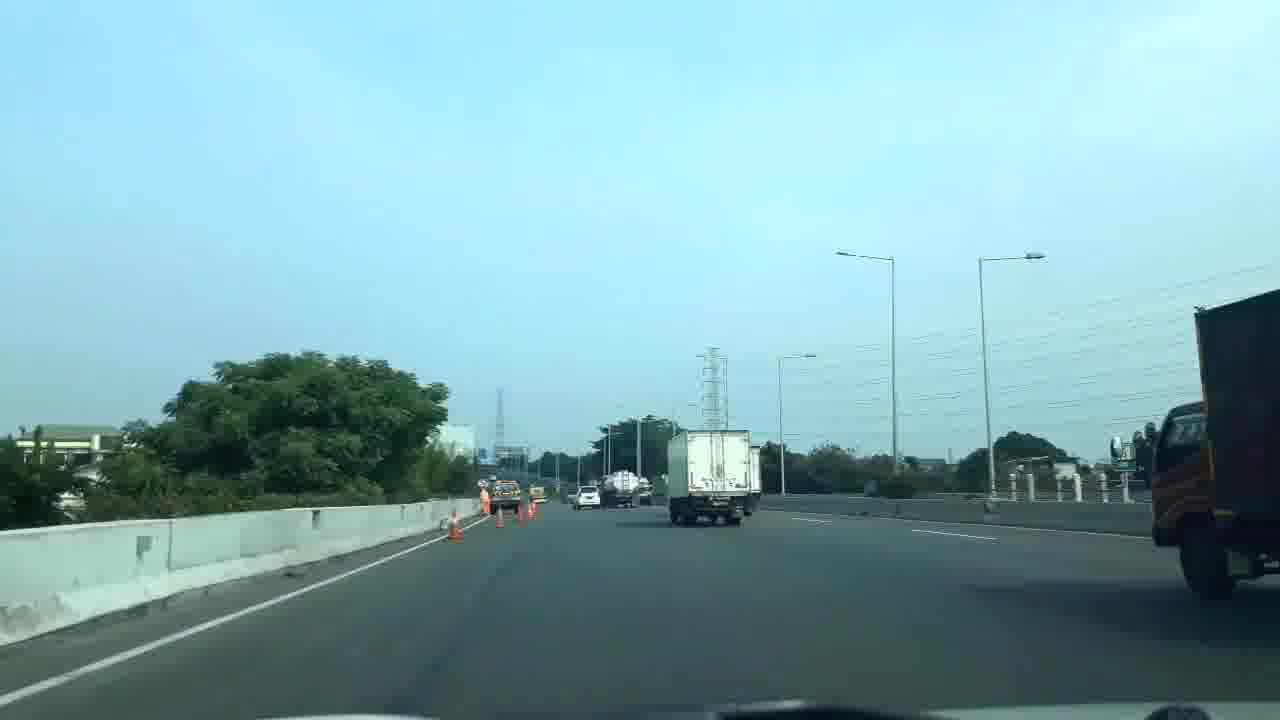plate_positive: (711, 501, 729, 507)
